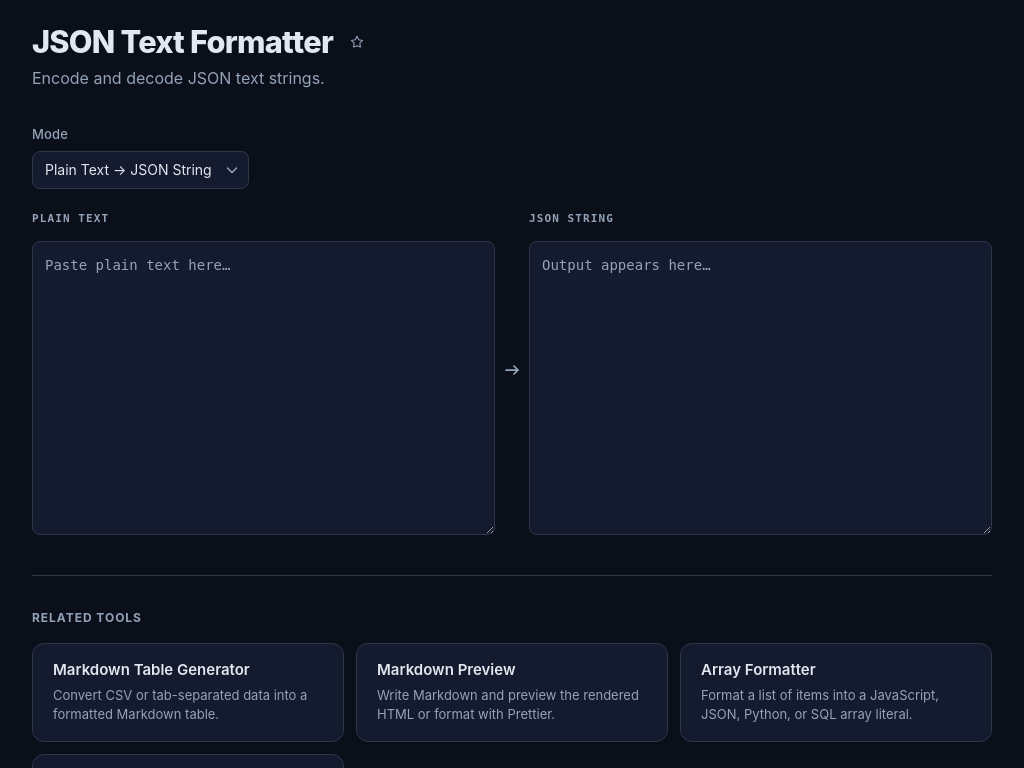
Test case: JsonTextFormatter › decodes JSON string to plain text
Select "JSON String → Plain Text" in the dropdown labelled "Mode" at (140, 170), box [32,150,249,188]
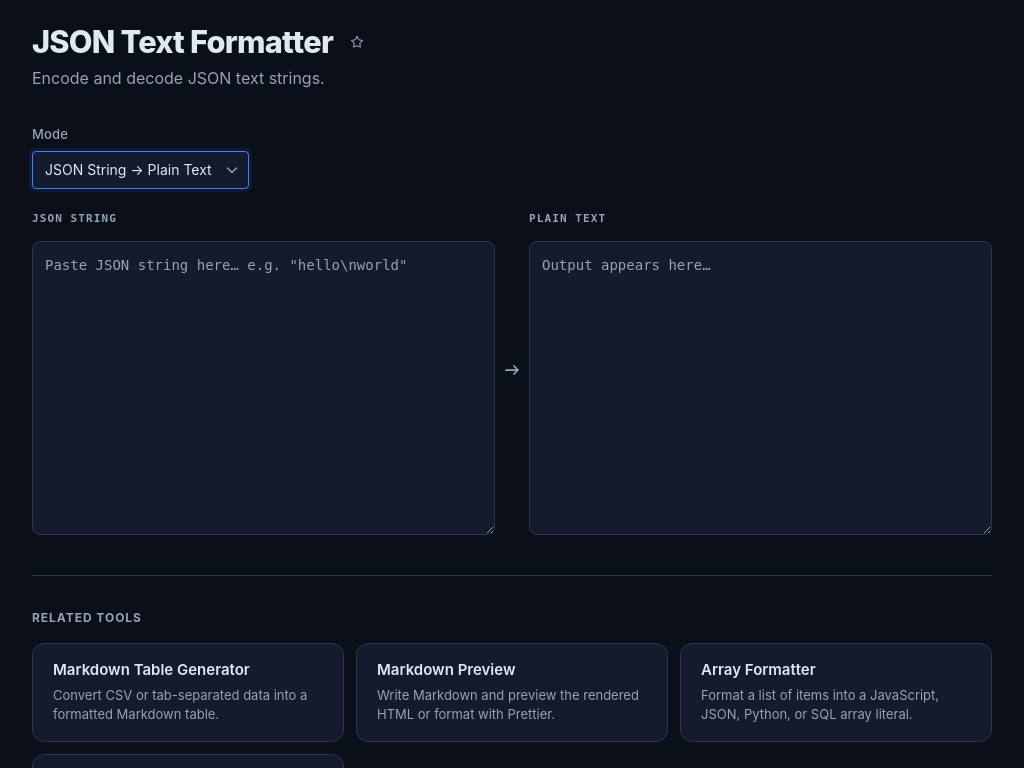
Type "\"hello world\"" into the text box labelled "Paste JSON string here… e.g. \"hello\\nworld\"" at (264, 388), box [32,240,495,535]
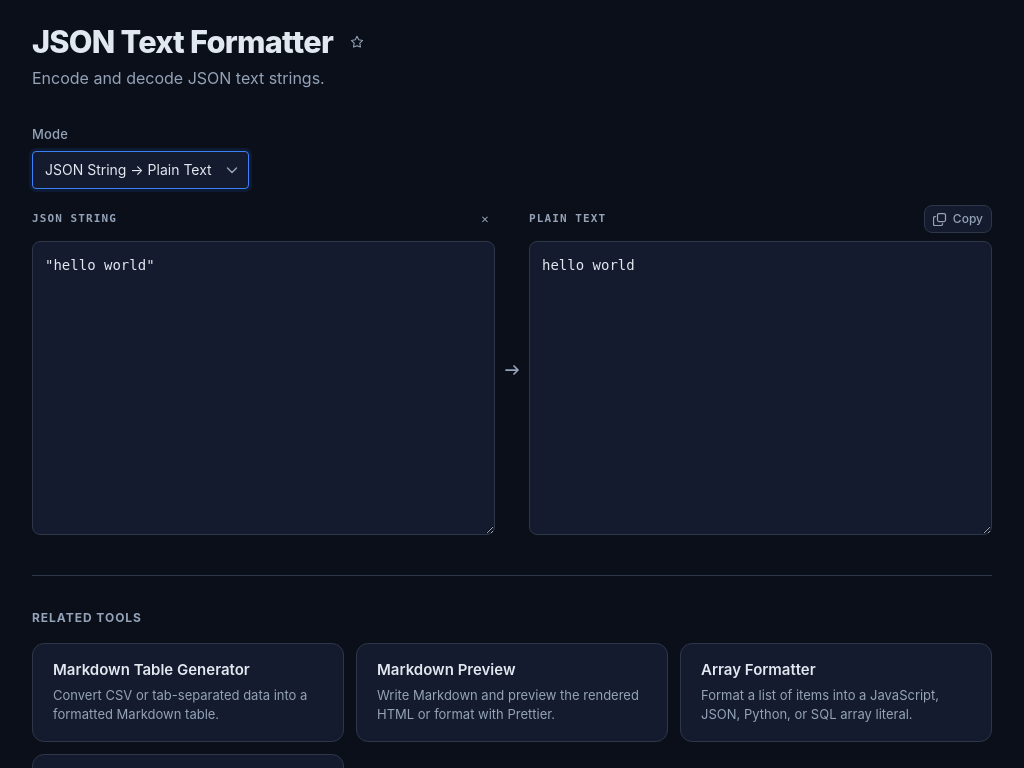
Now the text box named "plain text" holds "hello world", box [529,240,992,535]
